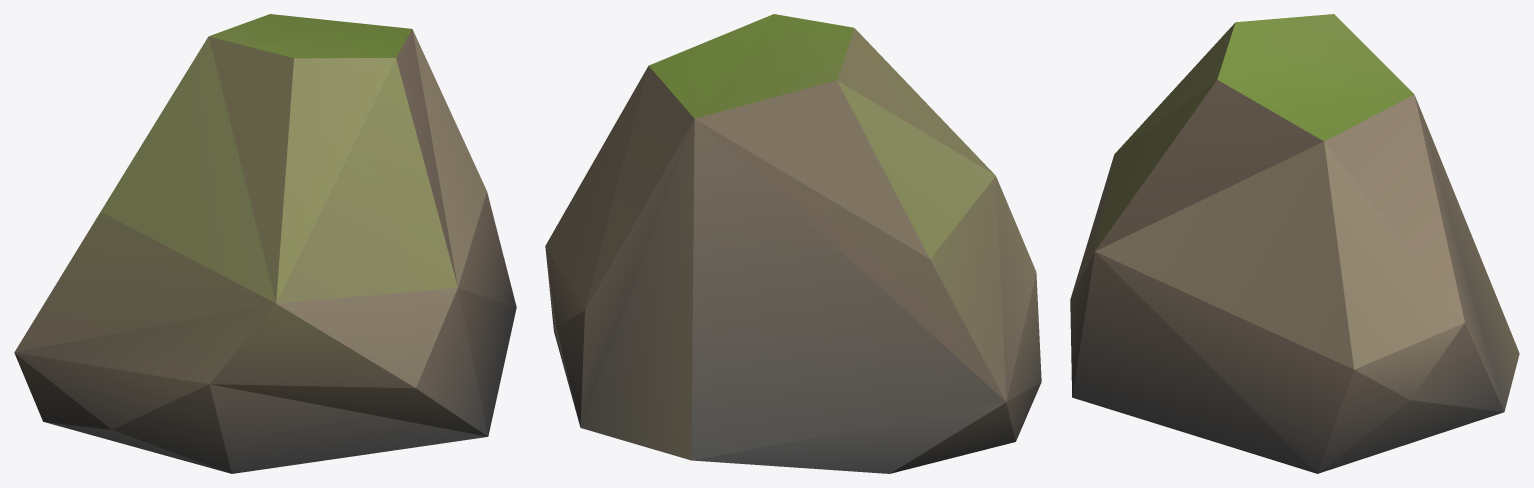
File: Rock_A_LOD1.fbx
3 views of the same model, side by side, from view 1: azimuth 30°, elevation 25°; view 2: azimuth 150°, elevation 25°; view 3: azimuth 270°, elevation 25° (orthographic). The views are drawn at different scales.
Parts seen in each view (by area): view 1: Rock_A_LOD1; view 2: Rock_A_LOD1; view 3: Rock_A_LOD1.
Boxes of the visible parts, x1,y1,x2,y2 form: Rock_A_LOD1: [14, 14, 516, 473]; Rock_A_LOD1: [545, 14, 1041, 473]; Rock_A_LOD1: [1070, 14, 1519, 473].
Bounding box in the file's own units: 1.84 × 1.26 × 1.56.
